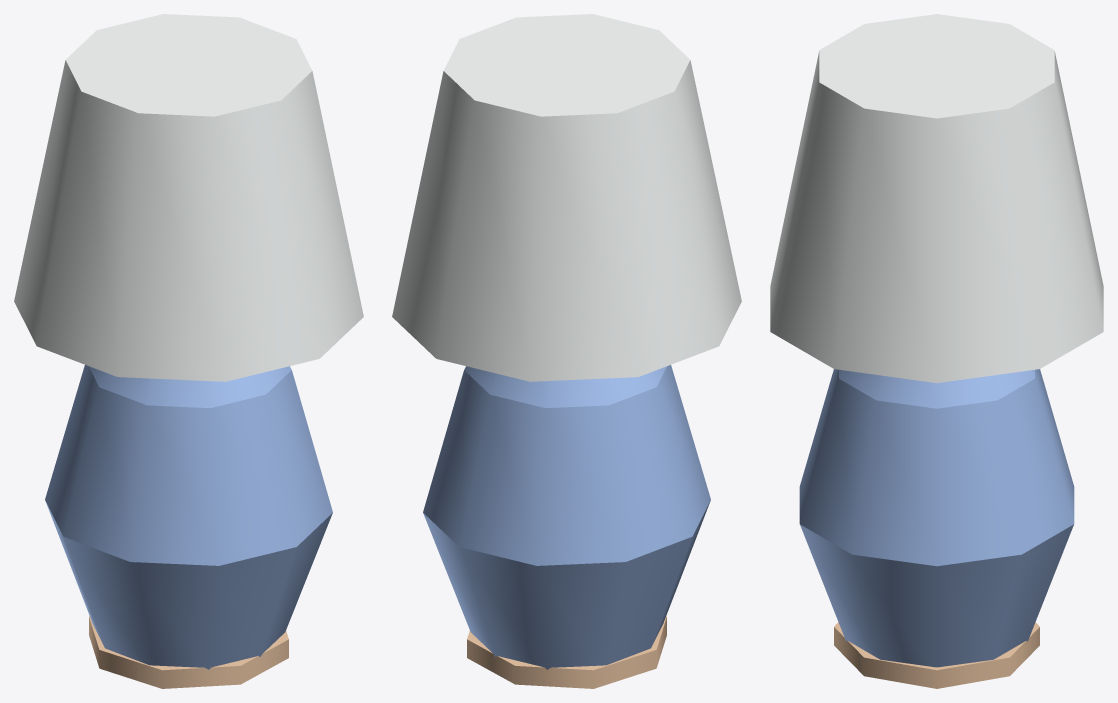
Rendered from lampCeramic.glb.
The picture shows the model from 3 angles, left to right: view 1: azimuth 30°, elevation 25°; view 2: azimuth 150°, elevation 25°; view 3: azimuth 270°, elevation 25°; orthographic projection.
Parts seen in each view (by area): view 1: lampCeramic; view 2: lampCeramic; view 3: lampCeramic.
Boxes of the visible parts, bbox=[...] form: lampCeramic: bbox=[14, 14, 363, 688]; lampCeramic: bbox=[392, 14, 741, 688]; lampCeramic: bbox=[770, 14, 1103, 688].
Size of the model in its own units: 0.17 by 0.31 by 0.1617.
